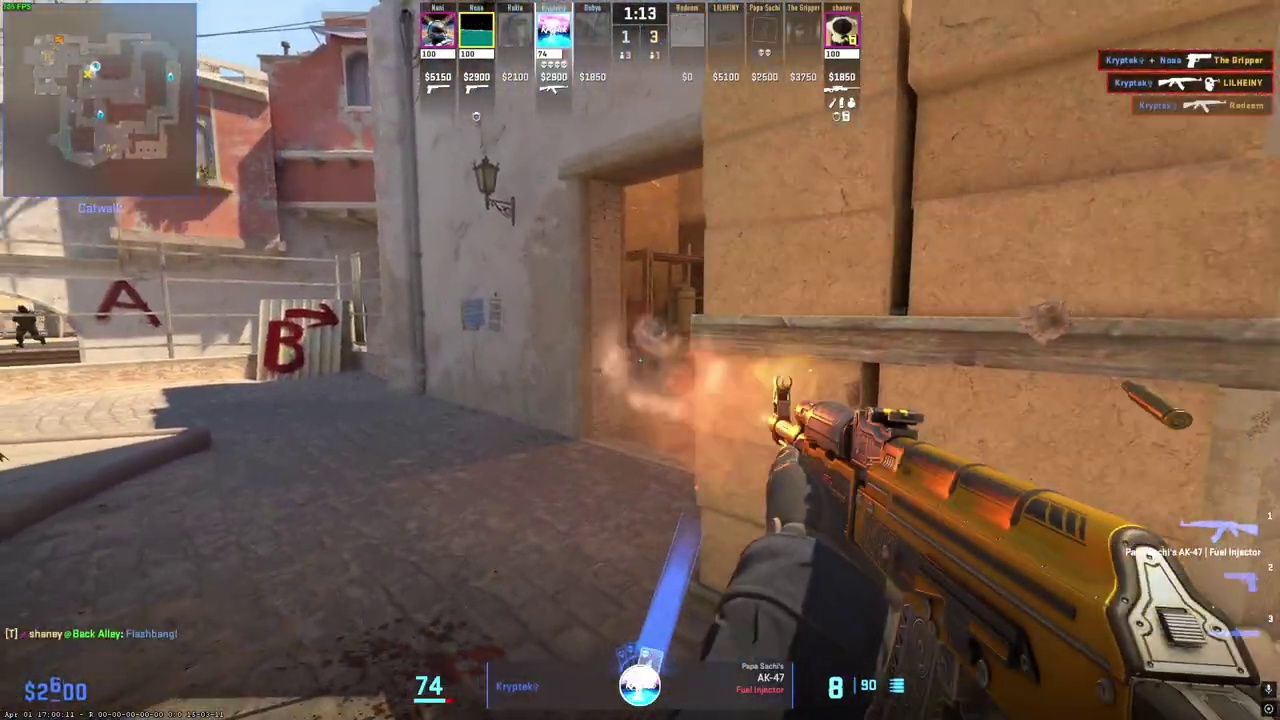CT: (12, 305, 42, 348)
